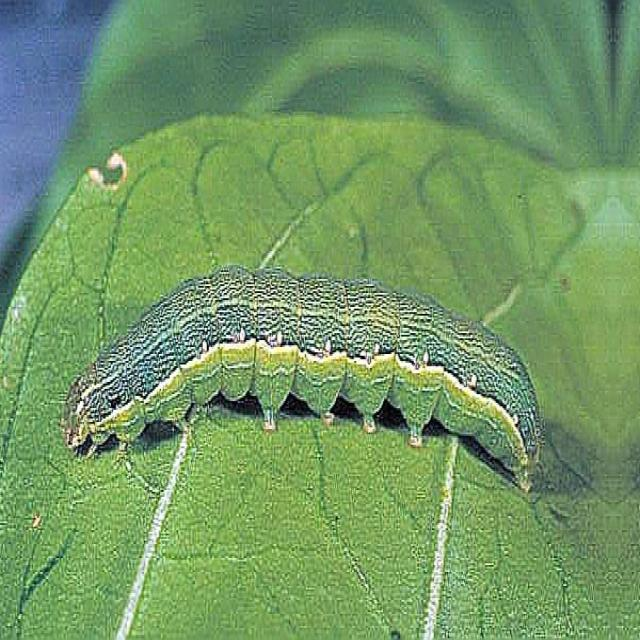Armyworm: (53, 223, 559, 543)
Armyworm_damage: (73, 121, 150, 211)
